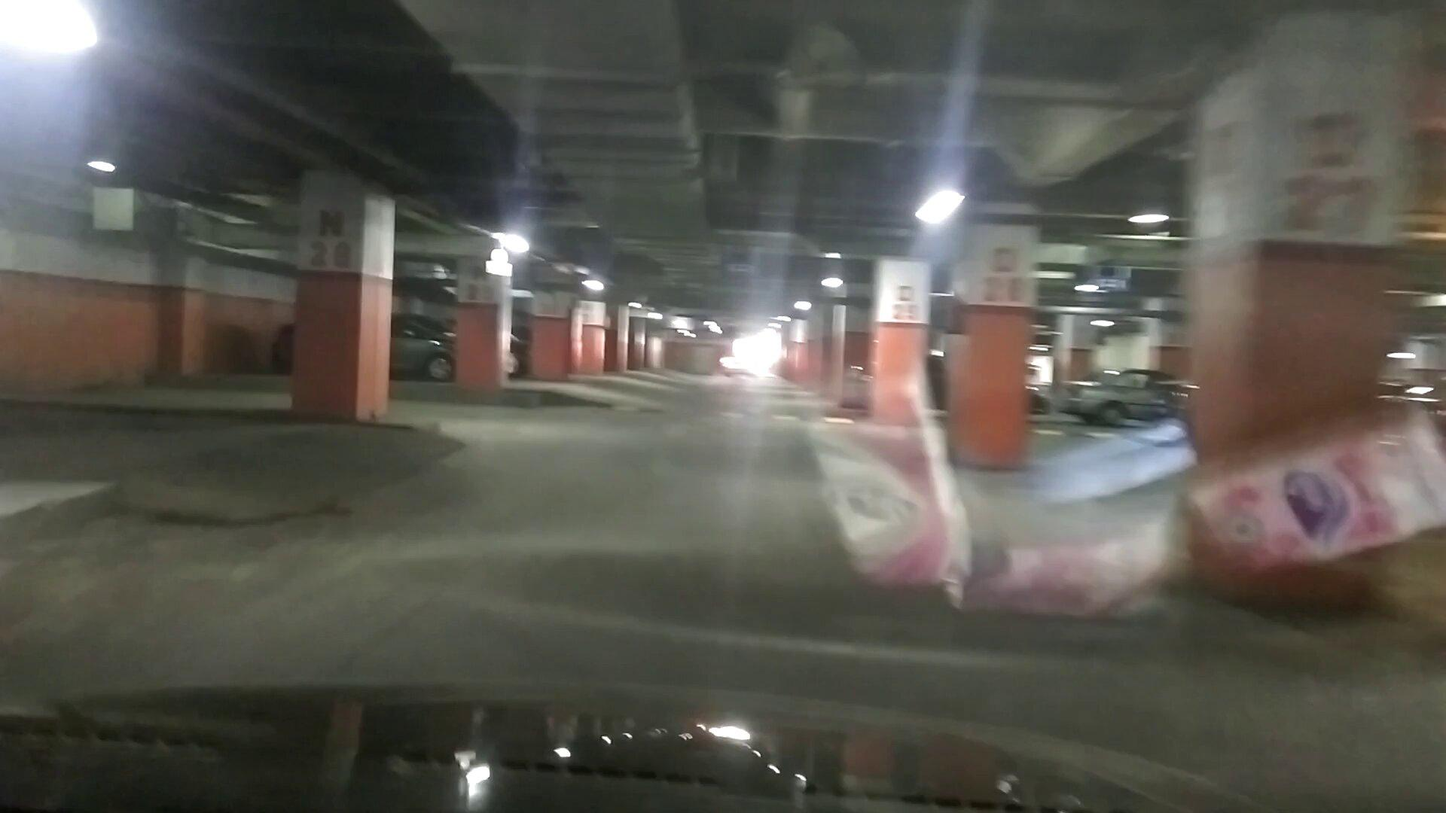Bump: (502, 383, 866, 425)
